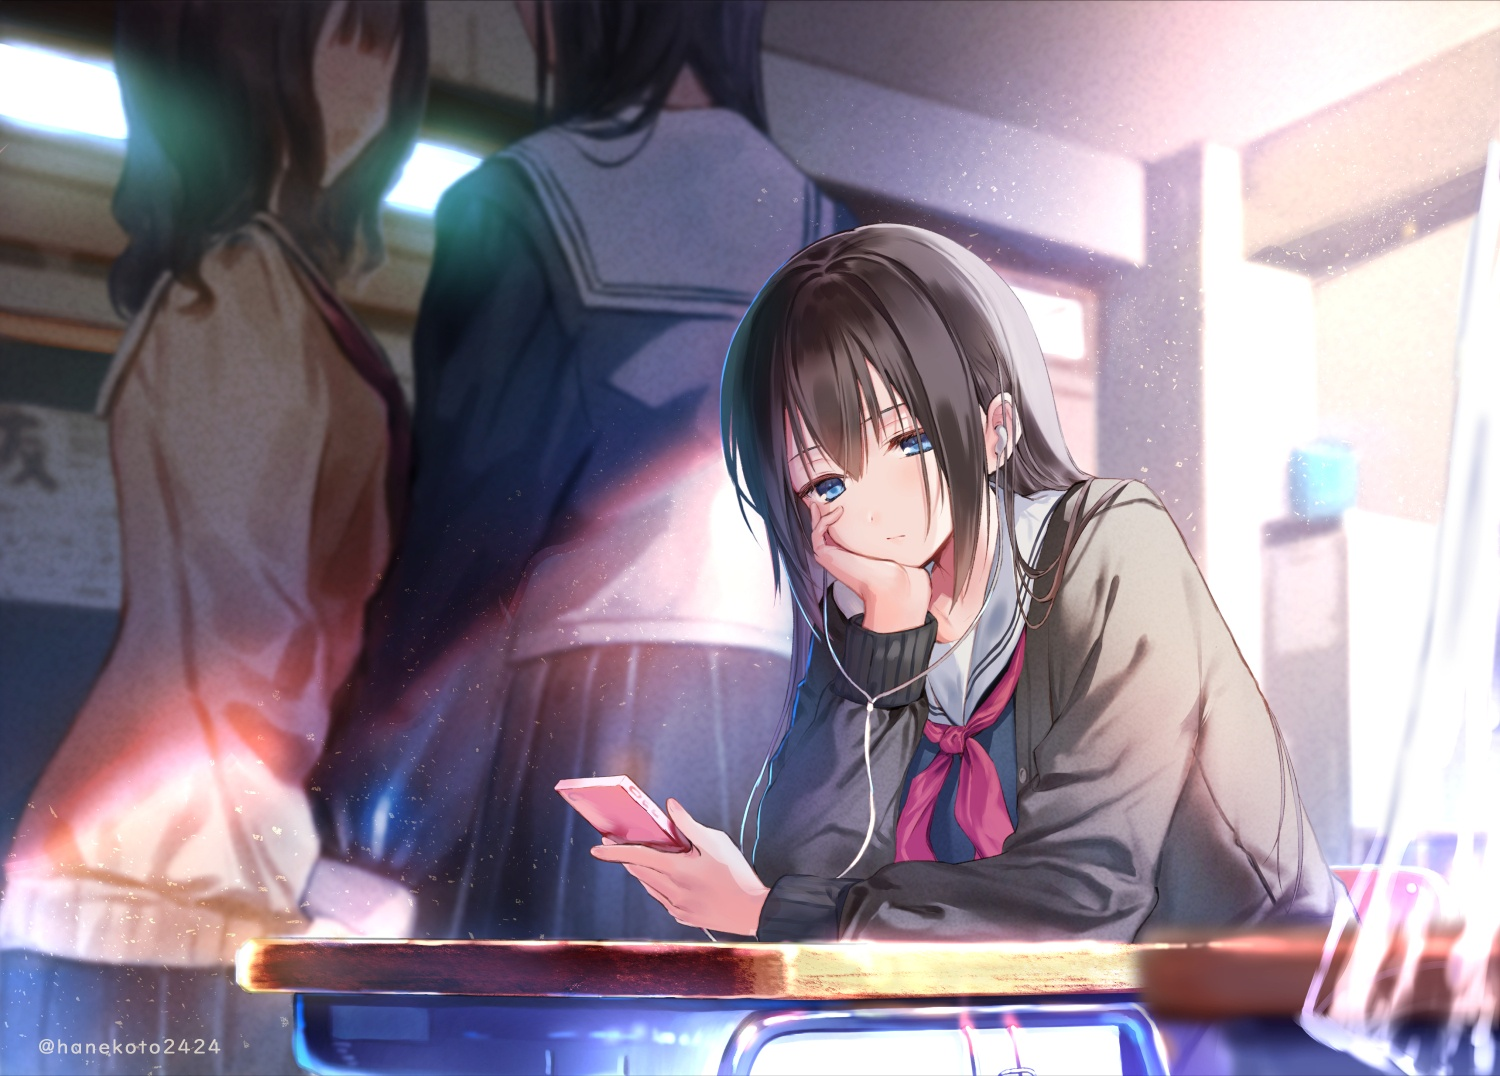纸片人正脸: (720, 218, 1063, 575)
